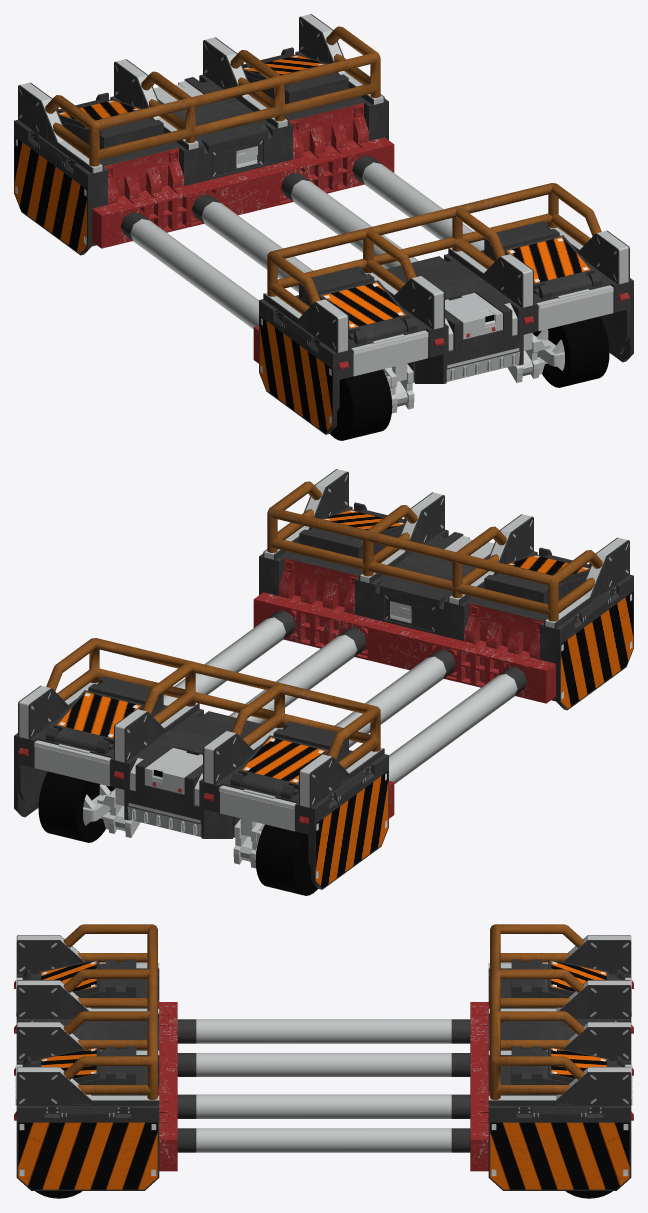
The model's file is cart.fbx.
The picture shows the model from 3 angles, top to bottom: view 1: azimuth 30°, elevation 25°; view 2: azimuth 150°, elevation 25°; view 3: azimuth 270°, elevation 25°; orthographic projection. The views are drawn at different scales.
Parts seen in each view (by area): view 1: Suplier, Cover_1, Cover_2, Cover_4, Cover_3; view 2: Suplier, Cover_3, Cover_4, Cover_2, Cover_1; view 3: Suplier, Cover_2, Cover_4, Cover_1, Cover_3.
Boxes of the visible parts, x1=… form: Suplier: x1=14, y1=14, x2=633, y2=440; Cover_1: x1=504, y1=235, x2=594, y2=296; Cover_2: x1=319, y1=280, x2=409, y2=341; Cover_4: x1=58, y1=99, x2=143, y2=128; Cover_3: x1=243, y1=54, x2=328, y2=80; Suplier: x1=14, y1=469, x2=633, y2=895; Cover_3: x1=53, y1=690, x2=143, y2=751; Cover_4: x1=238, y1=735, x2=328, y2=796; Cover_2: x1=504, y1=554, x2=589, y2=583; Cover_1: x1=319, y1=509, x2=404, y2=535; Suplier: x1=14, y1=924, x2=633, y2=1198; Cover_2: x1=26, y1=959, x2=99, y2=995; Cover_4: x1=548, y1=959, x2=621, y2=995; Cover_1: x1=26, y1=1046, x2=99, y2=1082; Cover_3: x1=548, y1=1046, x2=621, y2=1082.
Size of the model in its own units: 259 by 126 by 479.
